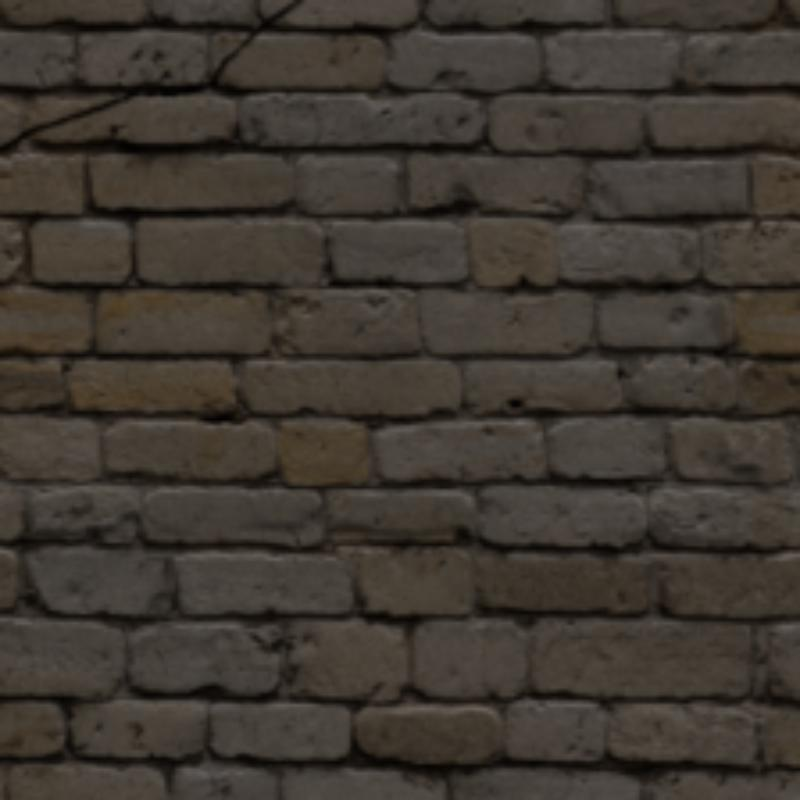pothole: (0, 68, 220, 150), (234, 0, 296, 52)
